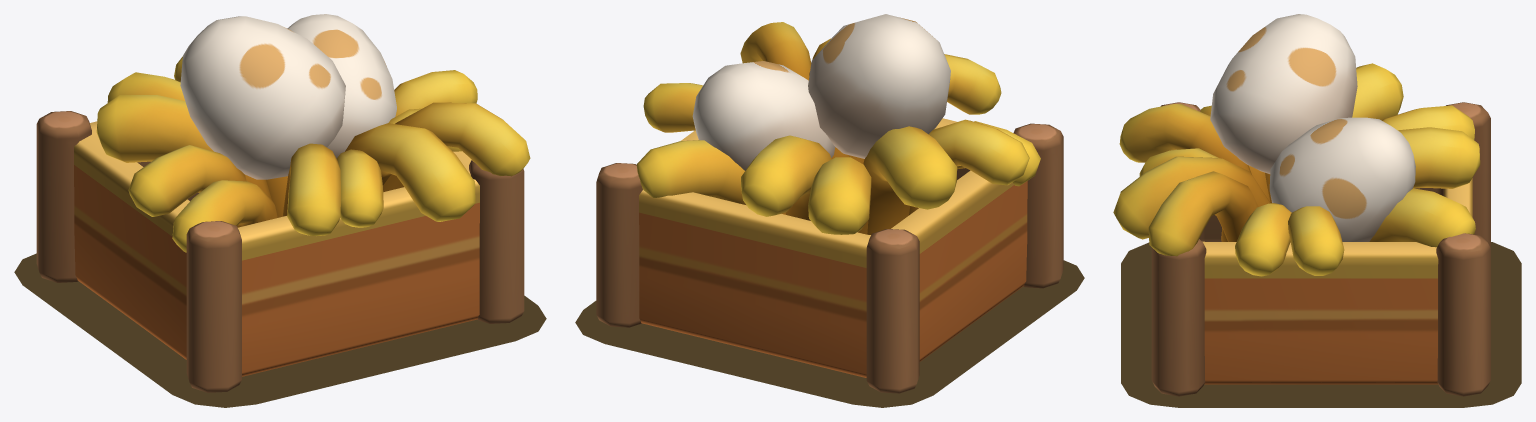
File: WoodBox_Egg.fbx
The picture shows the model from 3 angles, left to right: view 1: azimuth 30°, elevation 25°; view 2: azimuth 150°, elevation 25°; view 3: azimuth 270°, elevation 25°; orthographic projection. The views are drawn at different scales.
Parts seen in each view (by area): view 1: WBegg_body, BoxEgg_body, WBegg_SDW; view 2: WBegg_body, BoxEgg_body, WBegg_SDW; view 3: BoxEgg_body, WBegg_body, WBegg_SDW.
Part boxes in pixels (x1=…): WBegg_body: x1=36, y1=111, x2=524, y2=392; BoxEgg_body: x1=96, y1=14, x2=530, y2=252; WBegg_SDW: x1=14, y1=253, x2=546, y2=407; WBegg_body: x1=596, y1=118, x2=1063, y2=393; BoxEgg_body: x1=637, y1=14, x2=1040, y2=234; WBegg_SDW: x1=575, y1=260, x2=1084, y2=407; BoxEgg_body: x1=1113, y1=14, x2=1480, y2=276; WBegg_body: x1=1151, y1=102, x2=1490, y2=396; WBegg_SDW: x1=1121, y1=242, x2=1521, y2=407.
Bounding box in the file's own units: 120 × 90.74 × 120.
3 materials, 2 textured.
